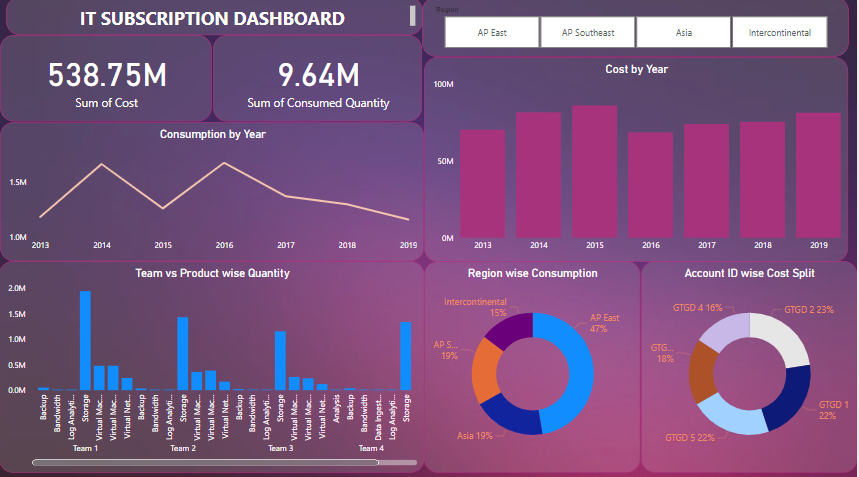

What the dashboard file says about the page in this screenshot:
{"tool":"powerbi","page":{"name":"Page 1","canvas":[1280,720],"ordinal":0},"visuals":[{"type":"textbox","box":[10.1,0,621.5,57.1],"z":0},{"type":"clusteredColumnChart","title":"Cost by Year","fields":{"Category":["Sheet1.Year"],"Y":["Sum(Sheet1.Cost)"]},"box":[635,89,633.3,305.7],"z":1000},{"type":"lineChart","title":"Consumption by Year","fields":{"Category":["Sheet1.Year"],"Y":["Sum(Sheet1.Consumed Quantity)"]},"box":[1.7,186.5,633.3,208.3],"z":2000},{"type":"donutChart","title":"Account ID wise Cost Split","fields":{"Category":["Sheet1.Column1"],"Y":["Sum(Sheet1.Cost)"]},"box":[957.5,394.8,322.5,315.8],"z":3000},{"type":"columnChart","title":"Team vs Product wise Quantity","fields":{"Category":["Sheet1.Team","Sheet1.Product"],"Y":["Sum(Sheet1.Consumed Quantity)"]},"box":[0,394.8,635,315.8],"z":4000},{"type":"donutChart","title":"Region wise Consumption","fields":{"Category":["Sheet1.Region"],"Y":["Sum(Sheet1.Consumed Quantity)"]},"box":[635,394.8,322.5,315.8],"z":5000},{"type":"card","fields":{"Values":["Sum(Sheet1.Cost)"]},"box":[1.7,57.1,315.8,129.3],"z":5001},{"type":"card","fields":{"Values":["Sum(Sheet1.Consumed Quantity)"]},"box":[319.2,57.1,312.4,129.3],"z":5002},{"type":"slicer","fields":{"Values":["Sheet1.Region"]},"box":[631.6,0,636.6,89],"z":5003}]}

Visuals, with their boxes in screenshot pixels (x1, y1, x2, y2), scaled from the page's 1280x720 canvas onto the 859x477 screenshot:
textbox: 7 0 424 38
"Cost by Year" clusteredColumnChart: 426 59 851 261
"Consumption by Year" lineChart: 1 124 426 262
"Account ID wise Cost Split" donutChart: 643 262 858 471
"Team vs Product wise Quantity" columnChart: 0 262 426 471
"Region wise Consumption" donutChart: 426 262 643 471
card - Sum(Sheet1.Cost): 1 38 213 123
card - Sum(Sheet1.Consumed Quantity): 214 38 424 123
slicer - Sheet1.Region: 424 0 851 59
